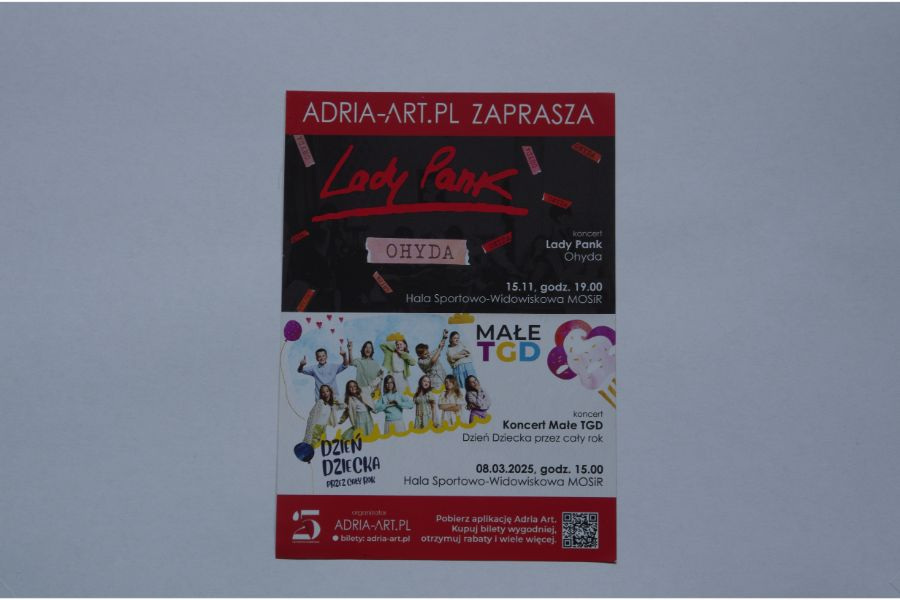album: (275, 84, 622, 565)
